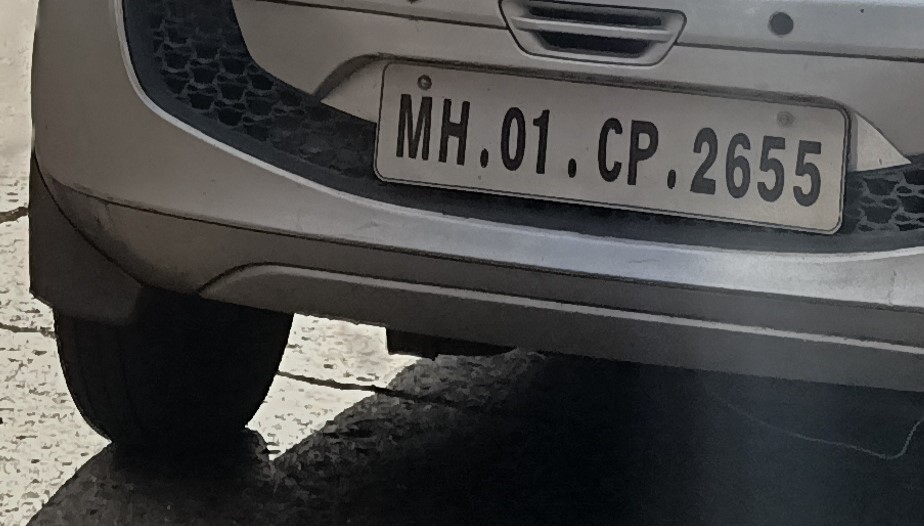MH01CP2655: (376, 62, 846, 234)
